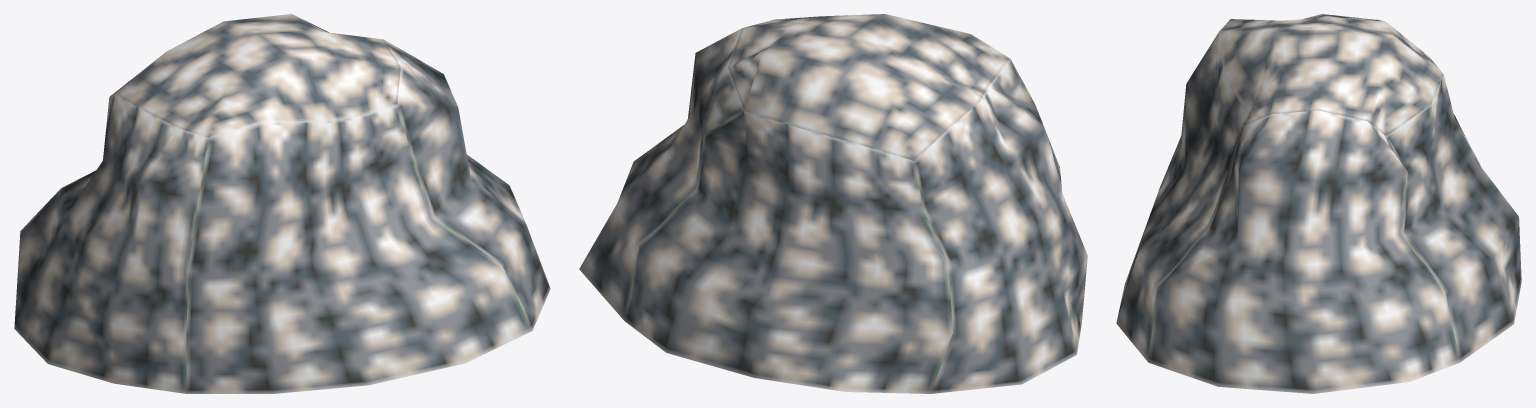
Rendered from large_Rock.fbx.
The picture shows the model from 3 angles, left to right: view 1: azimuth 30°, elevation 25°; view 2: azimuth 150°, elevation 25°; view 3: azimuth 270°, elevation 25°; orthographic projection. The views are drawn at different scales.
Parts seen in each view (by area): view 1: large_Rock; view 2: large_Rock; view 3: large_Rock.
Boxes of the visible parts, bbox=[...] form: large_Rock: bbox=[14, 14, 550, 393]; large_Rock: bbox=[579, 14, 1087, 393]; large_Rock: bbox=[1116, 14, 1521, 393].
Size of the model in its own units: 3.45 by 1.95 by 2.78.
